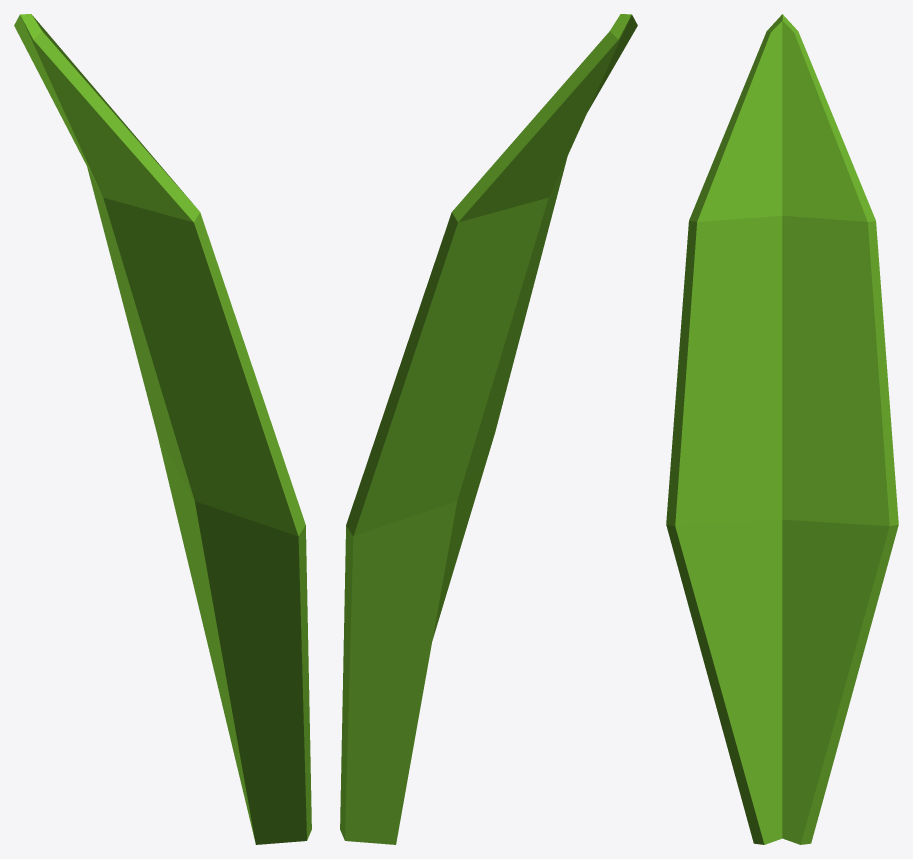
Rendered from Tulip Leaf.fbx.
The picture shows the model from 3 angles, left to right: view 1: azimuth 30°, elevation 25°; view 2: azimuth 150°, elevation 25°; view 3: azimuth 270°, elevation 25°; orthographic projection. The views are drawn at different scales.
Parts seen in each view (by area): view 1: Tulip Leaf.001; view 2: Tulip Leaf.001; view 3: Tulip Leaf.001.
Boxes of the visible parts, x1=… form: Tulip Leaf.001: x1=14, y1=14, x2=311, y2=844; Tulip Leaf.001: x1=340, y1=14, x2=637, y2=844; Tulip Leaf.001: x1=666, y1=14, x2=898, y2=844.
Bounding box in the file's own units: 0.286 × 0.864 × 0.25.
